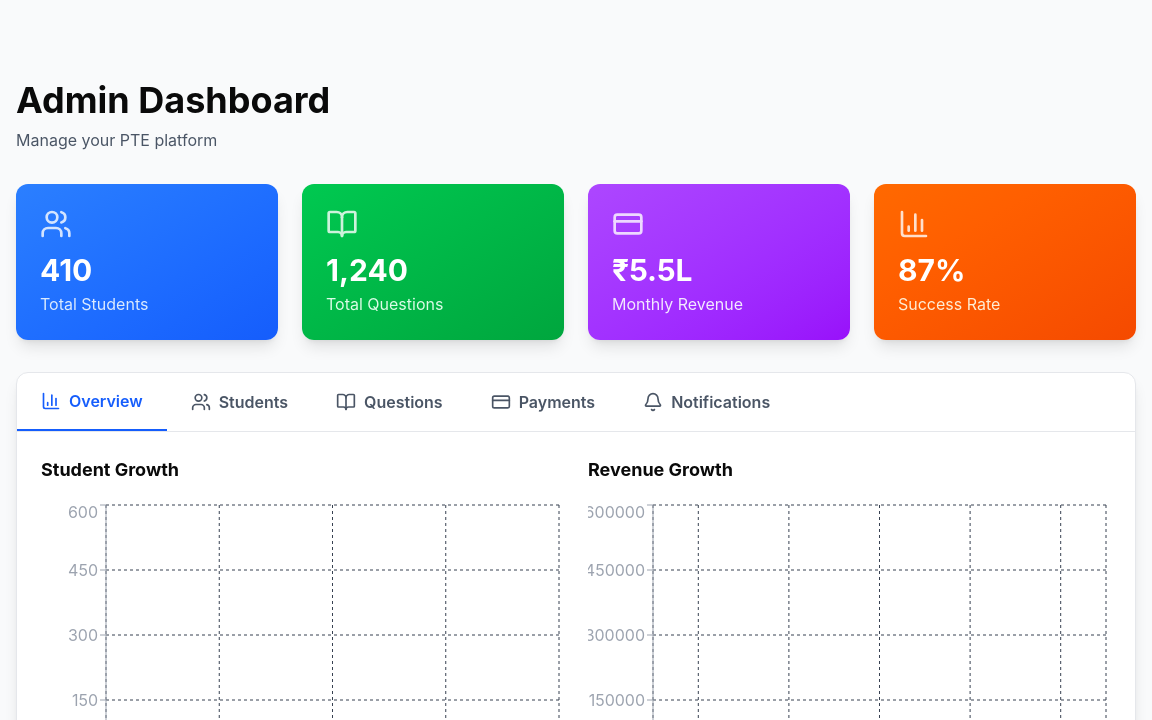
it: AdminPanel › Question CRUD Management UI › renders questions bank tab with mock questions
Click the button "Questions" at (389, 402), box [312, 373, 467, 431]
(page scrolled)
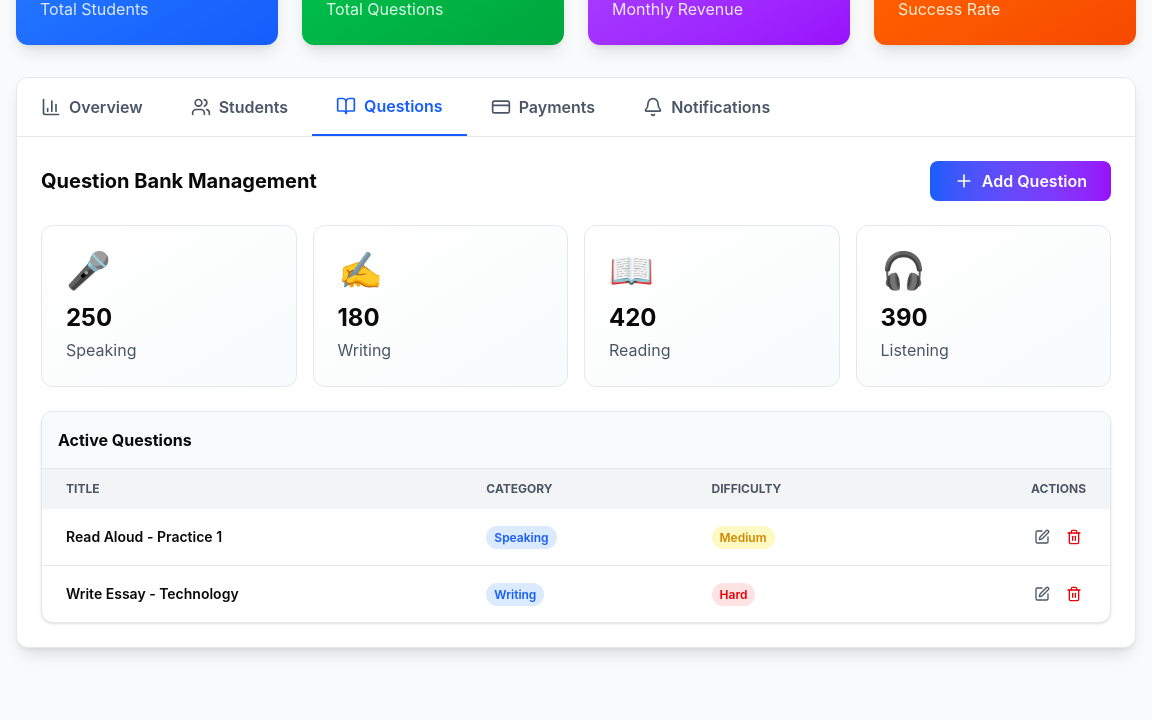
Expected: the heading "Question Bank Management" is shown, [41, 167, 317, 195]
Expected: the text "Read Aloud - Practice 1" is shown, [42, 509, 462, 566]
Expected: the text "Write Essay - Technology" is shown, [42, 566, 462, 622]
